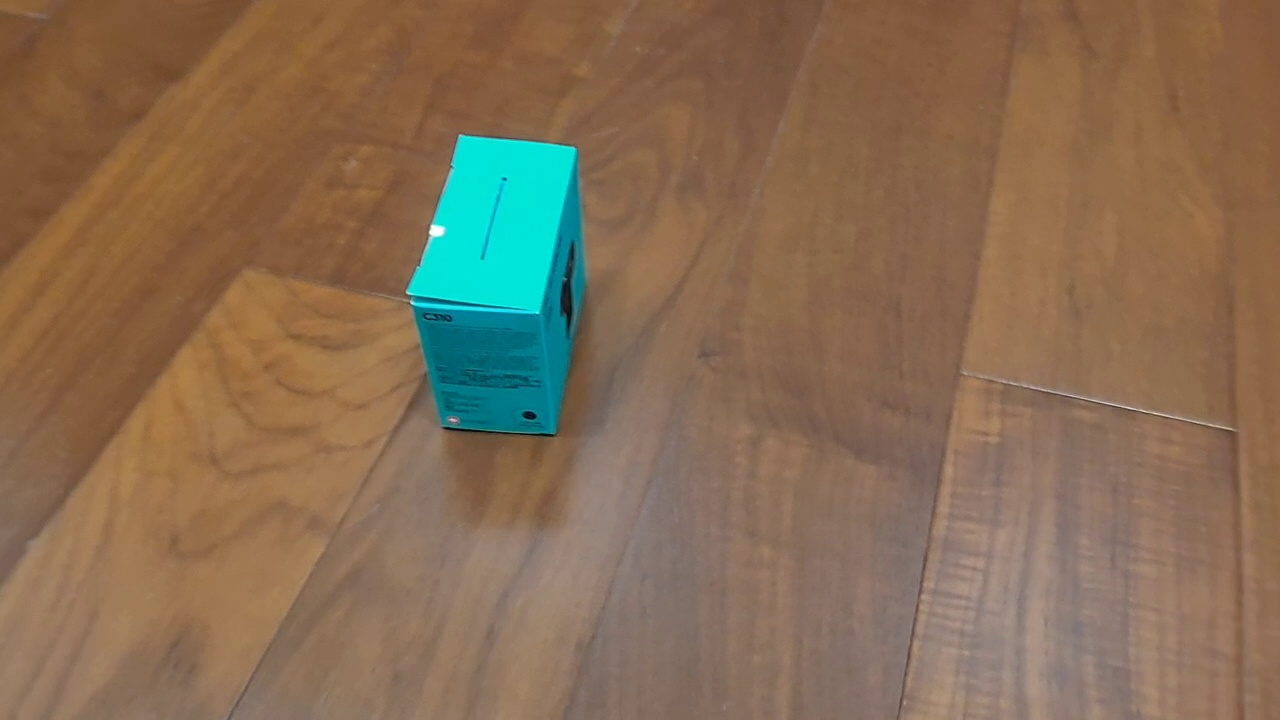webcam: (405, 133, 588, 439)
